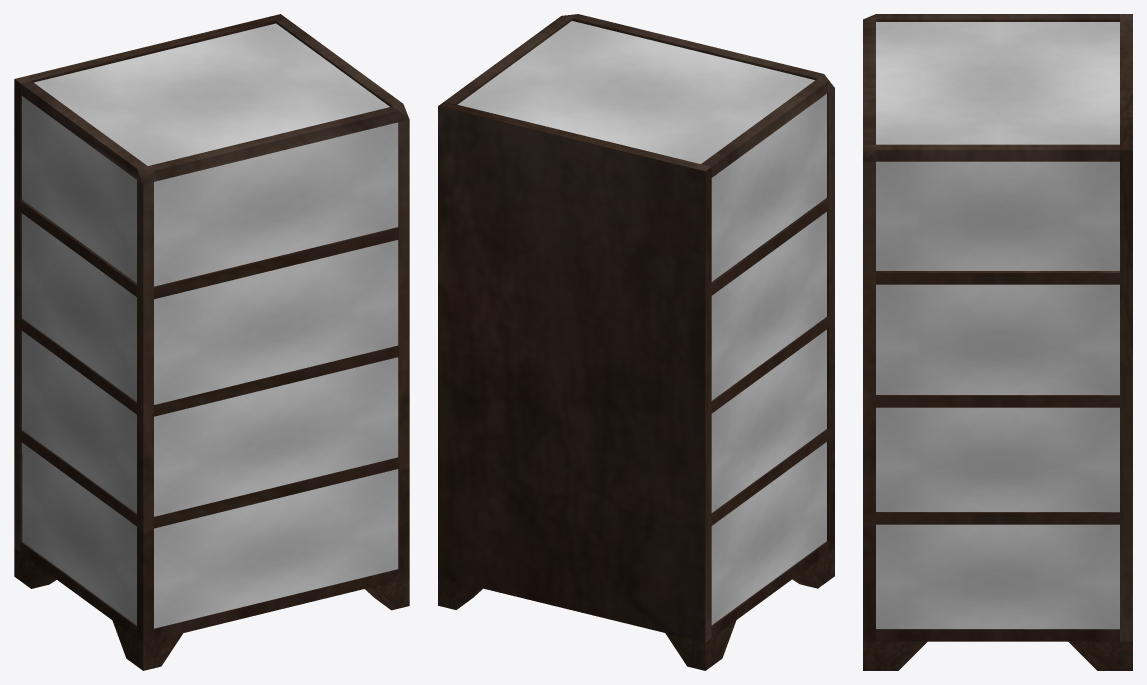
Rendered from cabinet_jeweler_caseTall.fbx.
The picture shows the model from 3 angles, left to right: view 1: azimuth 30°, elevation 25°; view 2: azimuth 150°, elevation 25°; view 3: azimuth 270°, elevation 25°; orthographic projection. The views are drawn at different scales.
Parts seen in each view (by area): view 1: glass06, glass05, glass04, glass03, topframe_frame1, topframe_top1, topframe_back1, topframe_frame4, topframe_frame2, topframe_frame3, cabinet_foot_9, cabinet_foot_7 (+2 smaller); view 2: topframe_back1, glass06, glass05, glass04, glass03, topframe_top1, topframe_frame1, cabinet_foot_8, topframe_frame3, topframe_frame2, topframe_frame4, cabinet_foot_6 (+1 smaller); view 3: glass06, glass05, glass04, glass03, topframe_frame1, topframe_top1, topframe_back1, topframe_frame4, topframe_frame3, topframe_frame2, cabinet_foot_7, cabinet_foot_6 (+1 smaller).
Part boxes in pixels (x1=…): glass06: x1=22, y1=23, x2=398, y2=286; glass05: x1=22, y1=213, x2=398, y2=404; glass04: x1=22, y1=331, x2=398, y2=516; glass03: x1=22, y1=442, x2=398, y2=628; topframe_frame1: x1=20, y1=119, x2=409, y2=642; topframe_top1: x1=20, y1=18, x2=409, y2=184; topframe_back1: x1=14, y1=14, x2=286, y2=552; topframe_frame4: x1=20, y1=201, x2=398, y2=299; topframe_frame2: x1=20, y1=430, x2=398, y2=528; topframe_frame3: x1=20, y1=319, x2=398, y2=416; cabinet_foot_9: x1=112, y1=620, x2=182, y2=670; cabinet_foot_7: x1=365, y1=578, x2=409, y2=610; topframe_back1: x1=438, y1=101, x2=711, y2=642; glass06: x1=457, y1=21, x2=826, y2=281; glass05: x1=711, y1=212, x2=826, y2=400; glass04: x1=711, y1=329, x2=826, y2=512; glass03: x1=711, y1=442, x2=826, y2=624; topframe_top1: x1=444, y1=14, x2=834, y2=177; topframe_frame1: x1=711, y1=88, x2=834, y2=637; cabinet_foot_8: x1=665, y1=620, x2=736, y2=670; topframe_frame3: x1=711, y1=317, x2=828, y2=413; topframe_frame2: x1=711, y1=429, x2=828, y2=525; topframe_frame4: x1=711, y1=199, x2=828, y2=295; cabinet_foot_6: x1=438, y1=577, x2=482, y2=609; glass06: x1=876, y1=22, x2=1119, y2=270; glass05: x1=876, y1=284, x2=1119, y2=394; glass04: x1=876, y1=407, x2=1119, y2=511; glass03: x1=876, y1=524, x2=1119, y2=628; topframe_frame1: x1=863, y1=161, x2=1119, y2=641; topframe_top1: x1=863, y1=14, x2=1119, y2=161; topframe_back1: x1=1120, y1=14, x2=1132, y2=641; topframe_frame4: x1=876, y1=273, x2=1119, y2=284; topframe_frame3: x1=876, y1=396, x2=1119, y2=407; topframe_frame2: x1=876, y1=513, x2=1119, y2=524; cabinet_foot_7: x1=863, y1=641, x2=927, y2=670; cabinet_foot_6: x1=1068, y1=641, x2=1132, y2=670.
Size of the model in its own units: 248 by 444 by 208.
3 materials, 3 textured.
